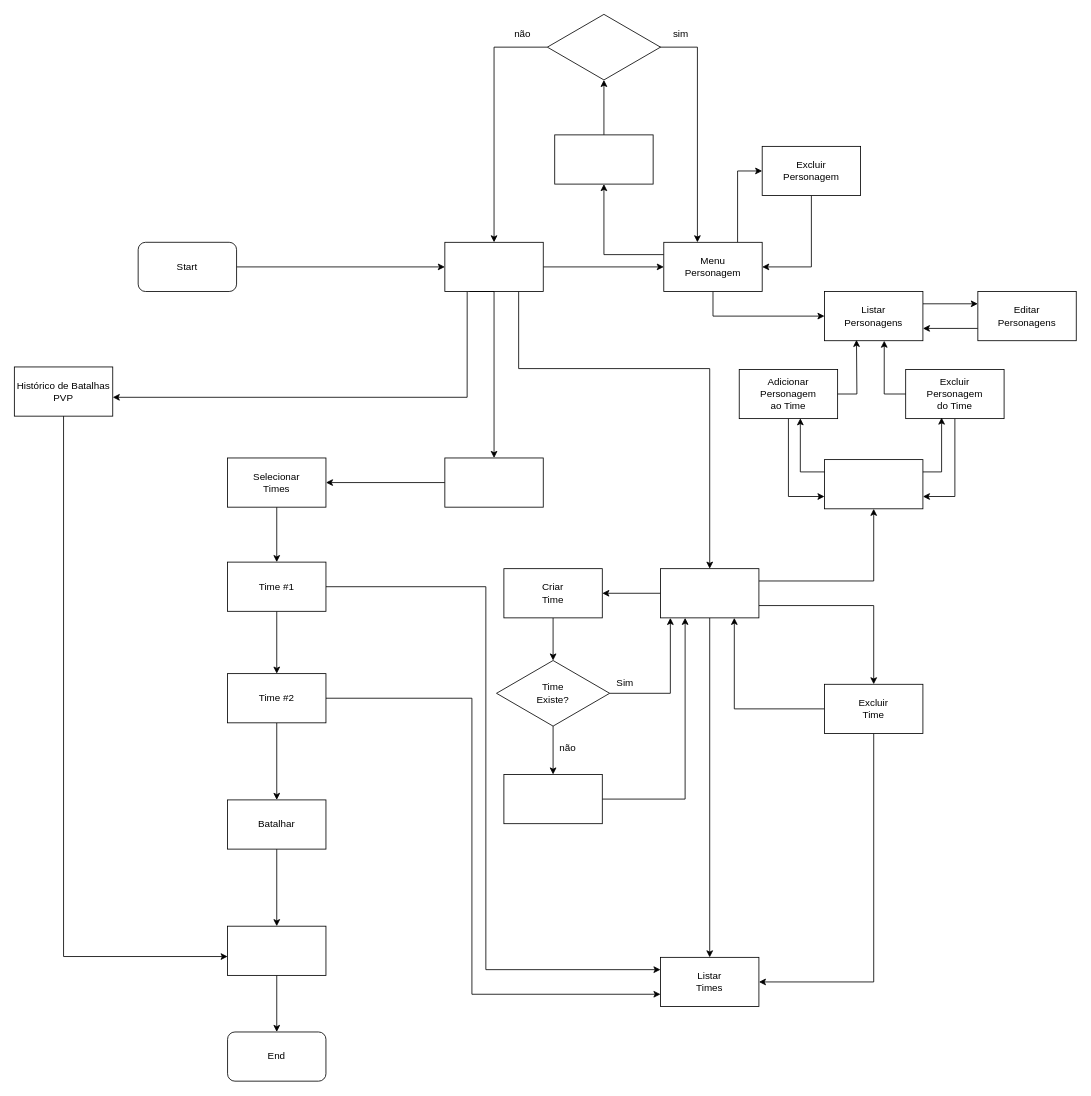
Some shapes in this 1091 by 1096 pixel diagram are drawn without their labels. The centre of each missing label's shape, as x and y in pixels:
"Cadastrar Personagem" goes at [603,159].
"Confronto PvP (Player Versus Player)" goes at [493,482].
"Inserir / Remover Personagem" goes at [873,484].
"Menu Principal" goes at [493,266].
"Menu Time" goes at [709,593].
"Personagem Cadastrado?" goes at [604,47].
"Time Cadastrado" goes at [552,799].
"Vencedor" goes at [276,950].
